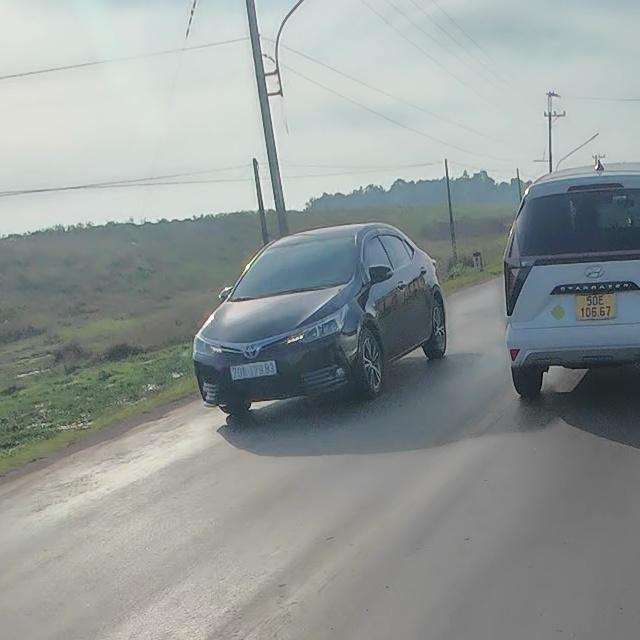license-plate: (576, 293, 616, 320)
